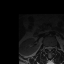CCS_normal: (48, 44, 50, 53)
LFS_stenosis: (52, 45, 54, 50)
LLS_normal: (50, 45, 52, 51)
RFS_normal: (44, 45, 46, 50)
RLS_normal: (46, 45, 48, 51)
